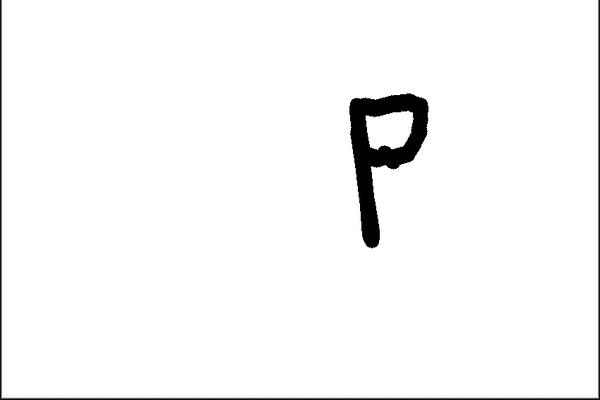P: (333, 87, 440, 260)
